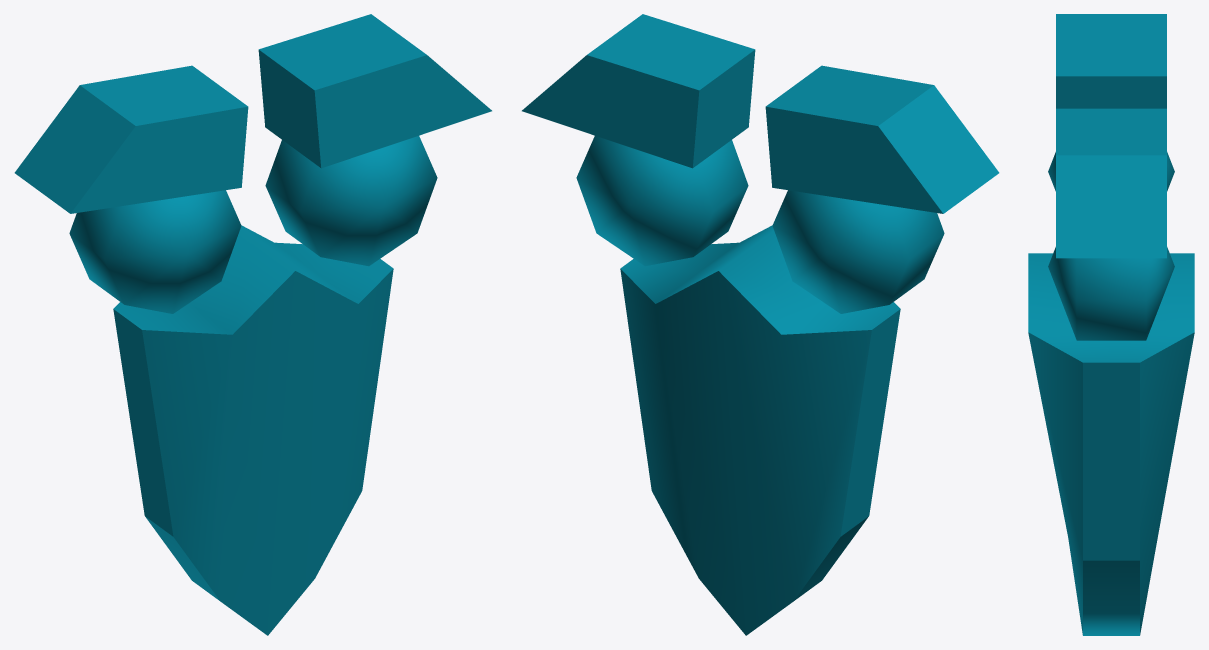
File: dochologram.fbx
3 renders of one model, left to right at view 1: azimuth 30°, elevation 25°; view 2: azimuth 150°, elevation 25°; view 3: azimuth 270°, elevation 25°, orthographic.
Visible parts, largest first — view 1: pCube1, pCube2, pCylinder1; view 2: pCube1, pCube2, pCylinder1; view 3: pCube1, pCube2, pCylinder1.
Boxes of the visible parts, x1,y1,x2,y2 form: pCube1: (113,225,393,635); pCube2: (14,14,491,213); pCylinder1: (69,136,437,313); pCube1: (620,225,900,635); pCube2: (522,14,999,213); pCylinder1: (576,136,944,313); pCube1: (1028,253,1194,635); pCube2: (1056,14,1166,258); pCylinder1: (1048,152,1174,340).
Bounding box in the file's own units: 1.68 × 2.11 × 0.5776.
